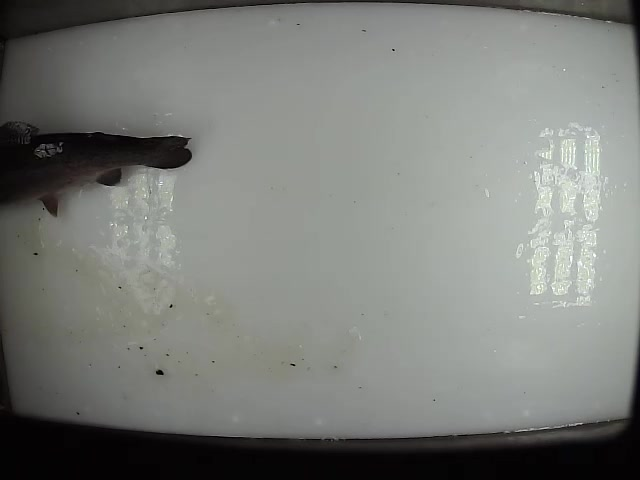fish: (1, 118, 195, 220)
